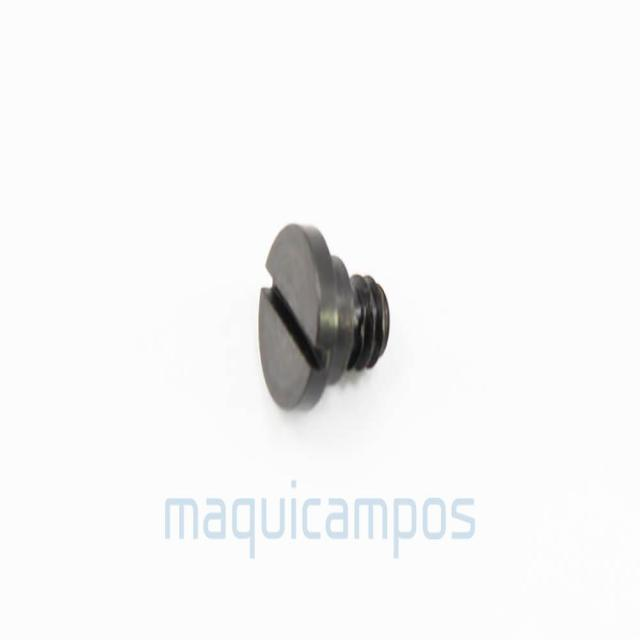duz: (257, 220, 339, 416)
